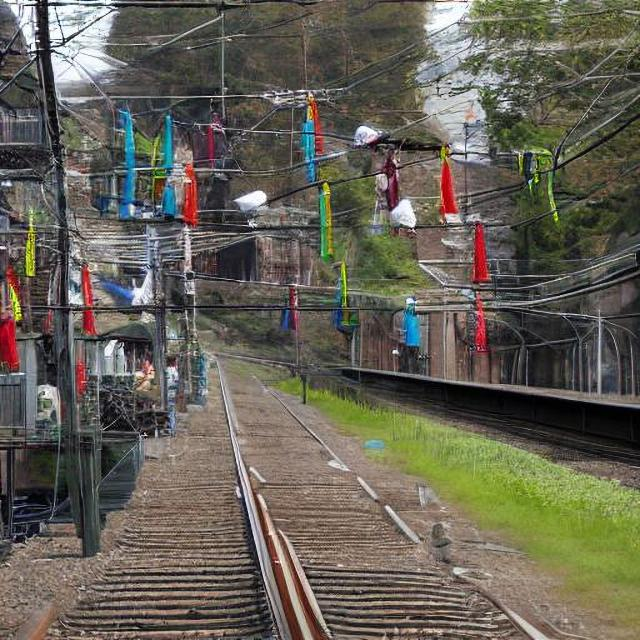floating object: (381, 157, 425, 240), (525, 146, 566, 220), (177, 146, 207, 228), (0, 262, 20, 368), (77, 259, 103, 338), (304, 89, 327, 176), (438, 142, 460, 225), (160, 113, 177, 214), (122, 105, 137, 216), (320, 177, 336, 262), (472, 216, 490, 288), (22, 205, 37, 279), (402, 296, 421, 352), (474, 292, 486, 355), (340, 257, 352, 316), (287, 284, 299, 333)
plastic bag: (350, 122, 390, 151)
